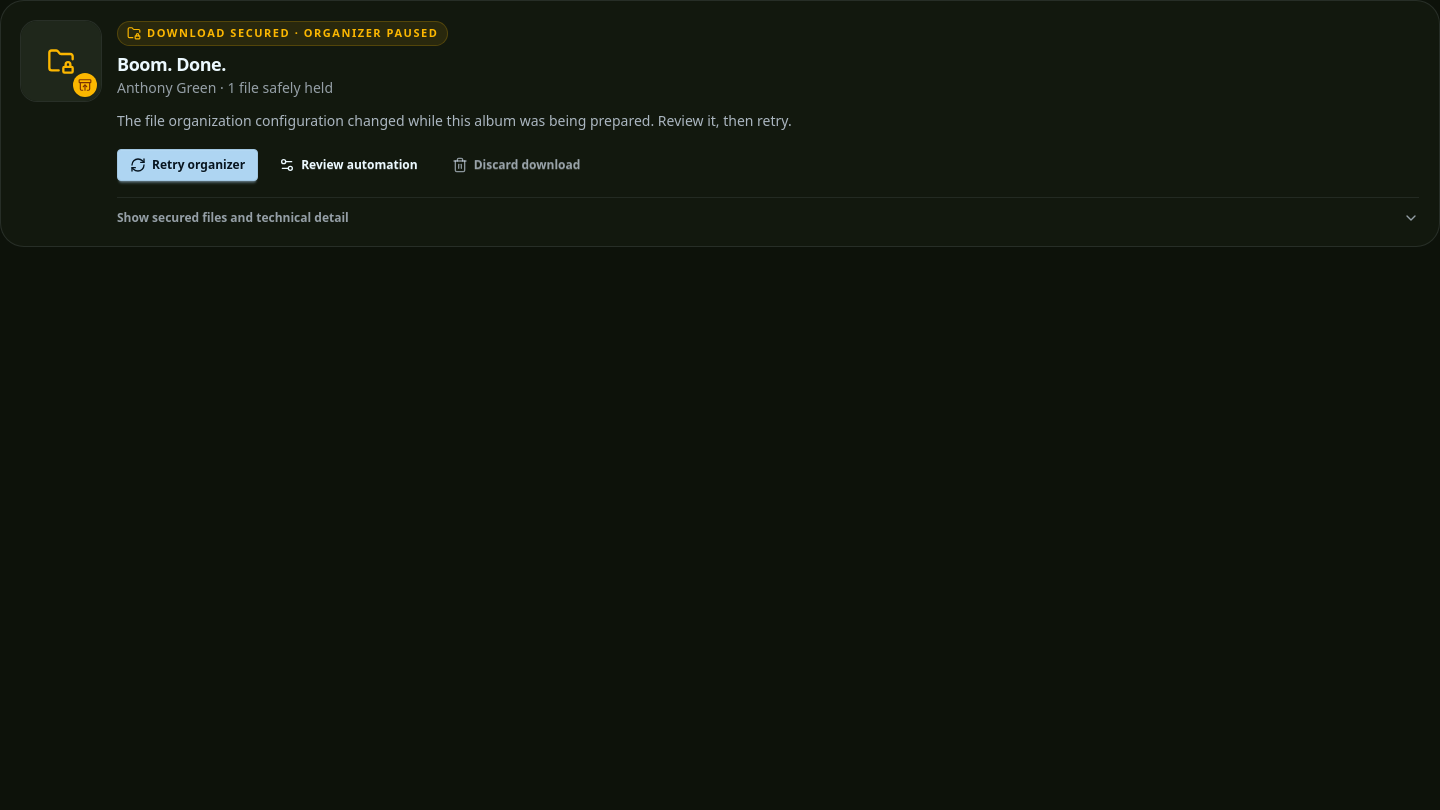
Test: ManagementHoldCard.svelte › keeps a failed discard visible in the confirmation dialog
Click the button "Discard download" at {"x": 516, "y": 165}, box [439, 149, 593, 181]
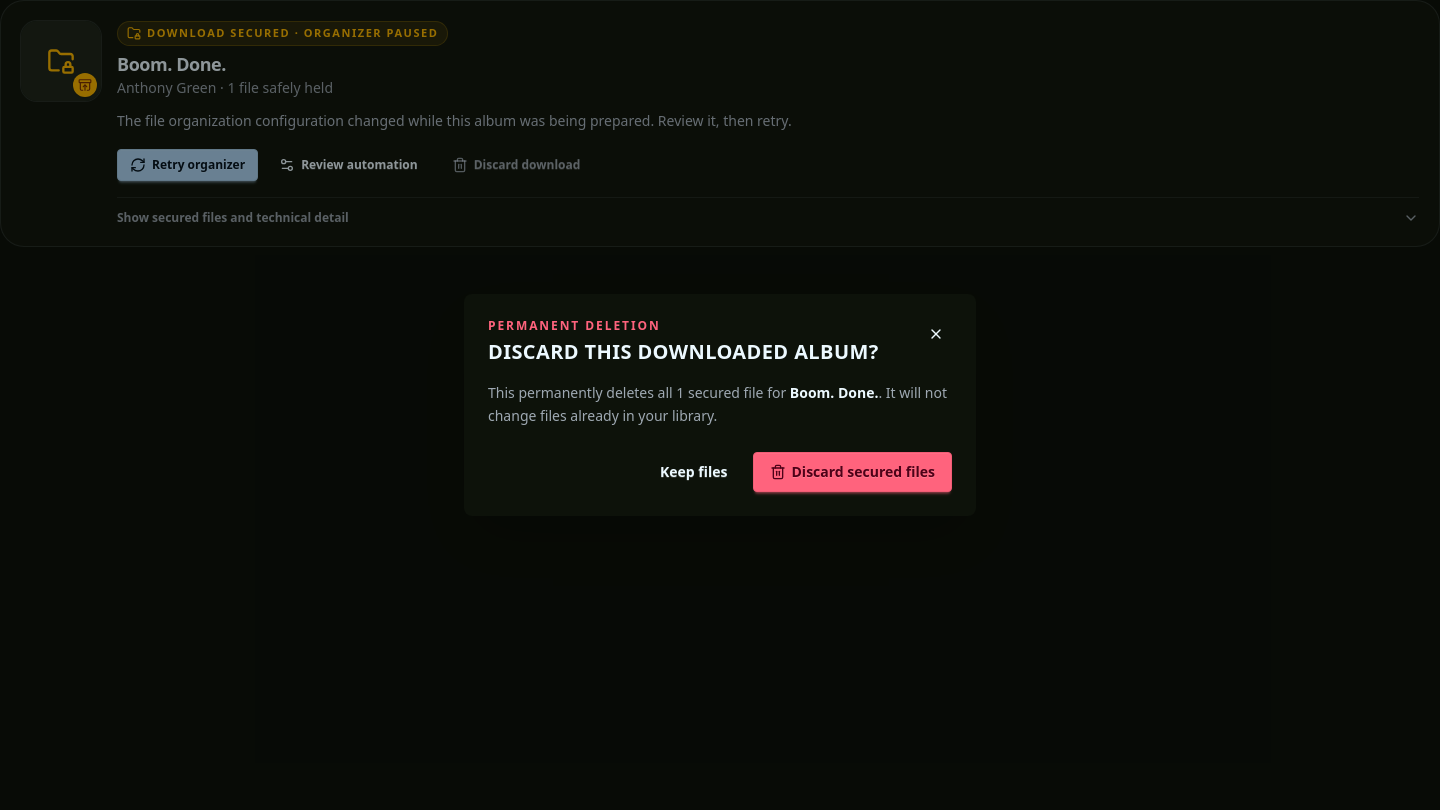
Click the button "Discard secured files" at {"x": 852, "y": 472}, box [752, 452, 952, 492]
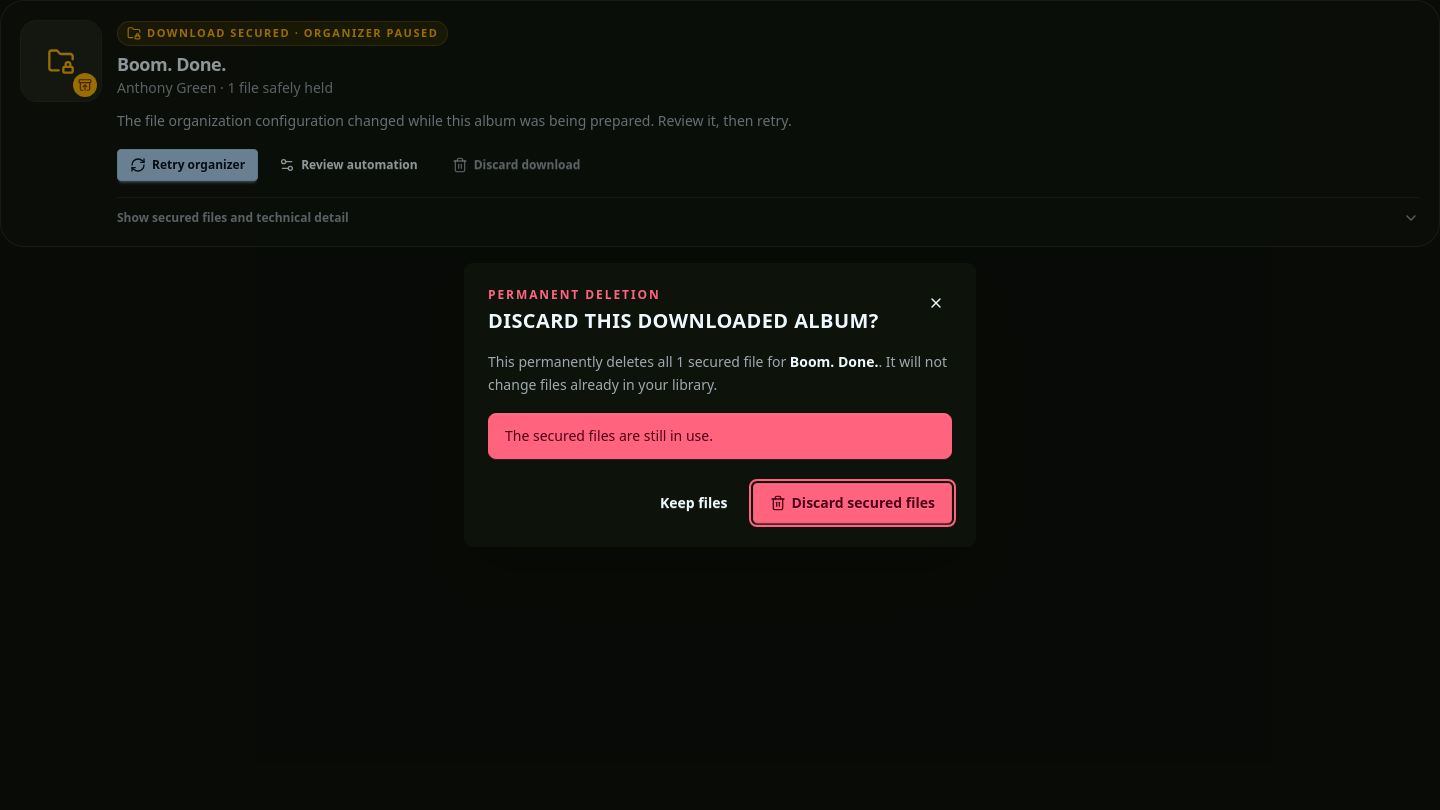
Now the message reads "The secured files are still in use.", box [505, 426, 713, 445]
